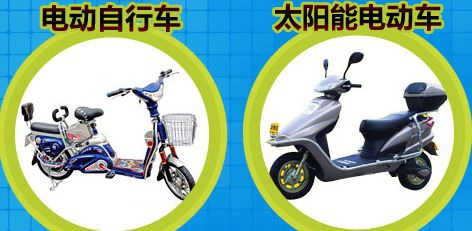non-vehicle: (262, 45, 451, 205), (9, 65, 198, 203)
